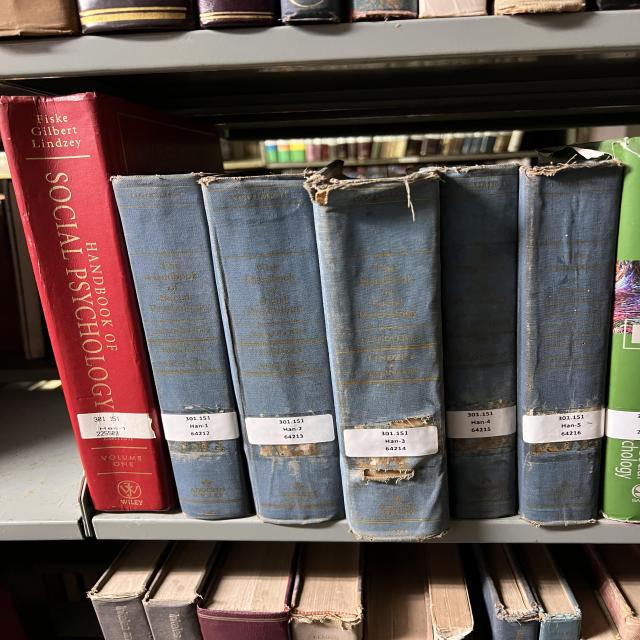Book: (2, 92, 222, 511), (307, 170, 448, 540), (200, 175, 343, 525), (112, 172, 252, 520), (518, 151, 622, 525), (440, 164, 518, 519), (588, 138, 640, 521)
Label: (343, 426, 438, 458), (522, 409, 605, 444), (245, 414, 335, 445), (447, 406, 517, 439), (162, 411, 238, 441), (77, 412, 155, 439), (605, 409, 640, 440)
